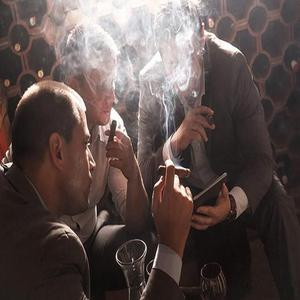cigarette: (156, 164, 192, 180), (199, 109, 217, 129), (108, 120, 118, 150)
